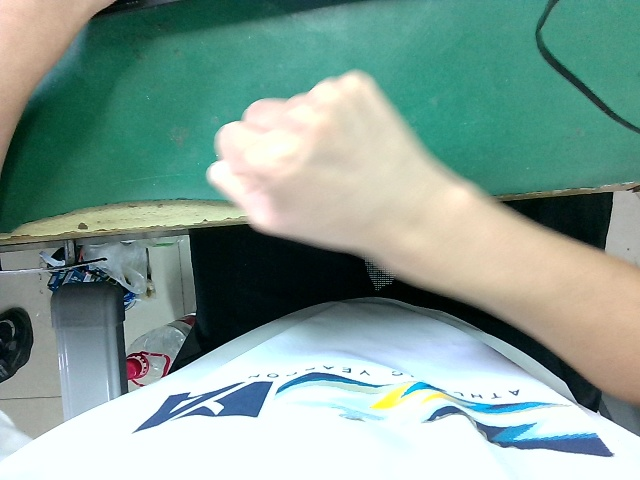stone: (201, 45, 433, 272)
